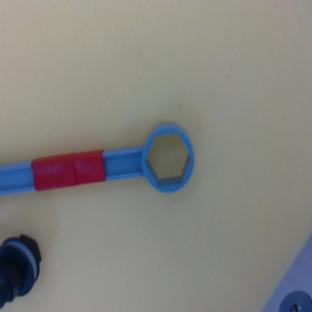part_1_bad: (0, 235, 41, 308)
part_3_good: (0, 122, 194, 195)
